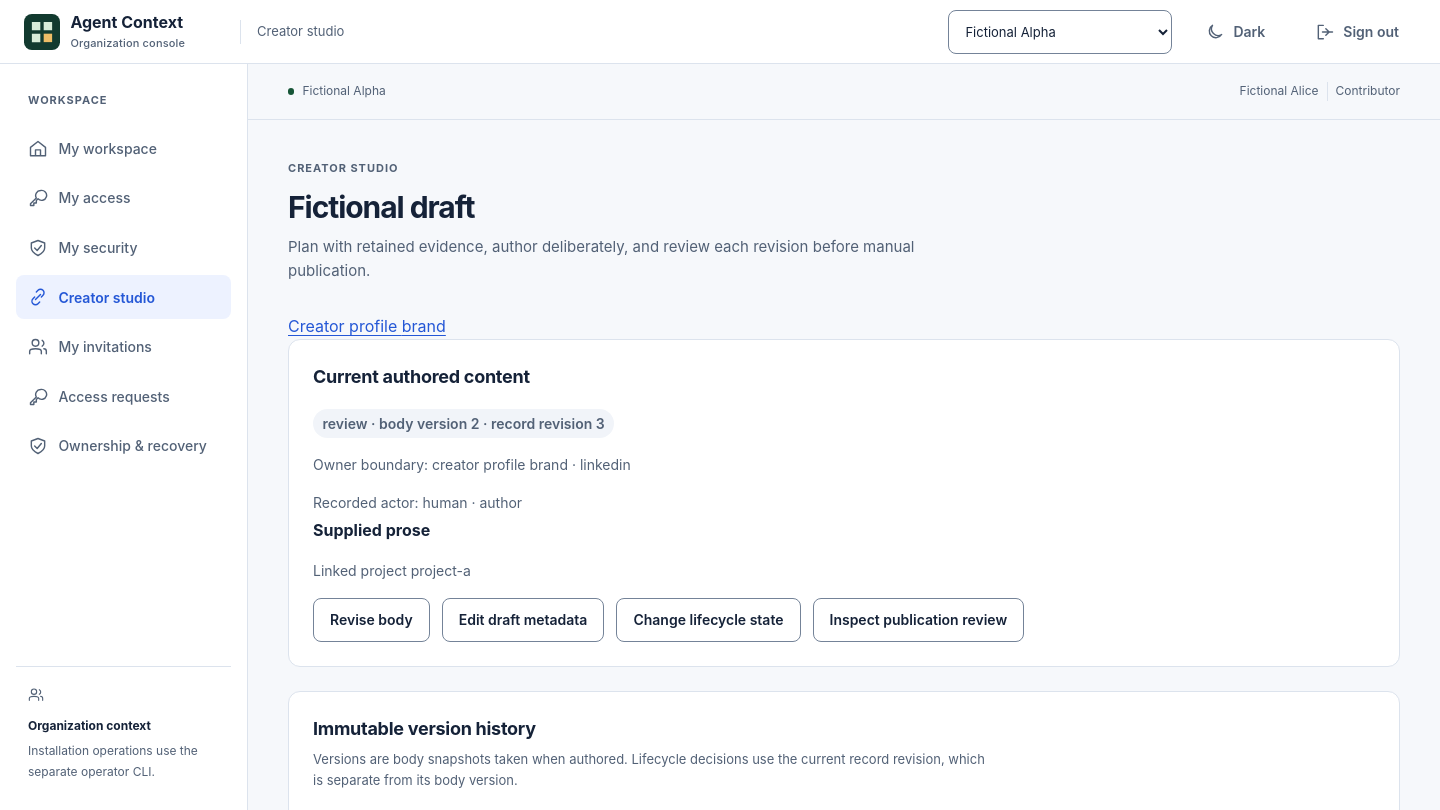
Test case: creator revision-bound review › denies a human author even with operation and review grants; stored Markdown is inert
Click the button "Inspect publication review" at x=918, y=620, box [812,598,1024,642]
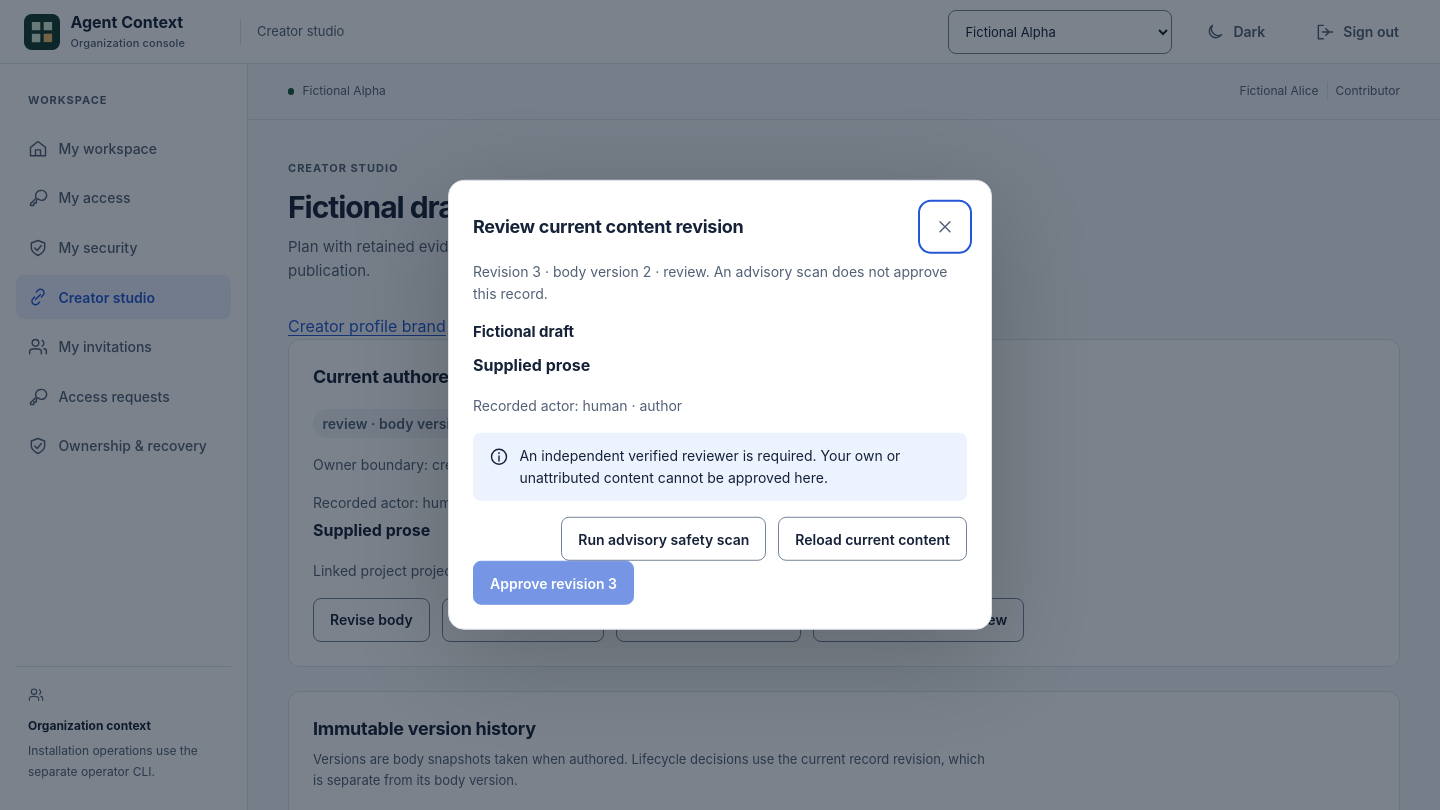
Expected: the button "Approve revision 3" is disabled, [473,561,634,605]
Expected: the text "independent verified reviewer" is shown, [519,447,900,486]
